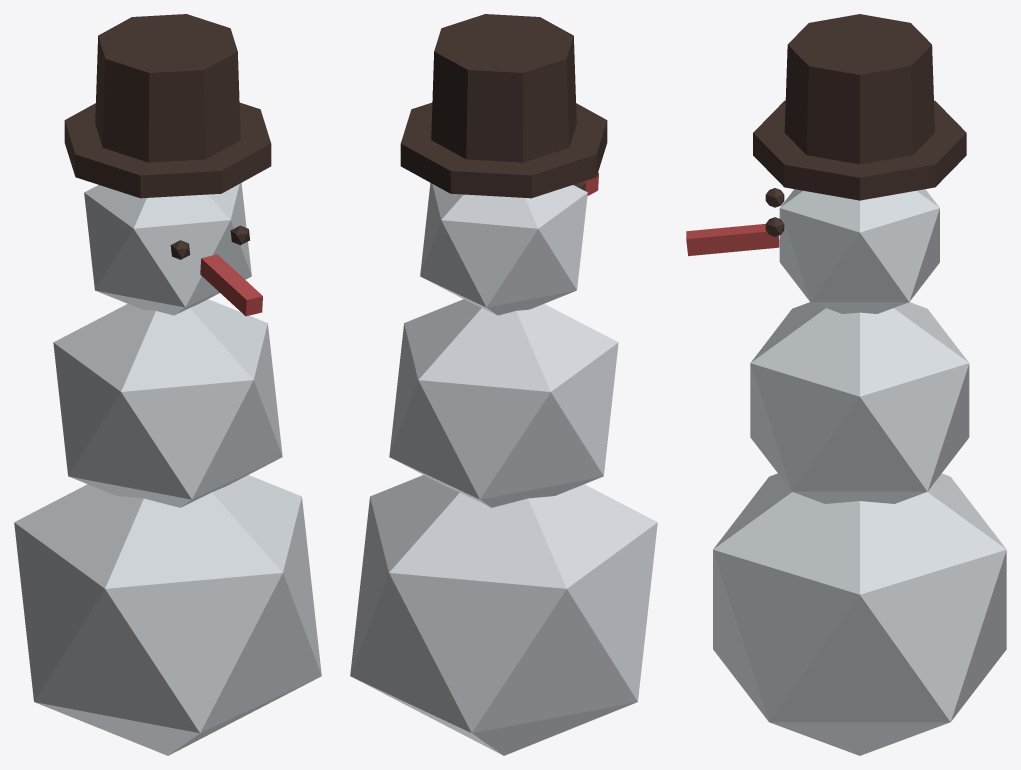
Rendered from Frosty_BigSnowman_Simple.glb.
The picture shows the model from 3 angles, left to right: view 1: azimuth 30°, elevation 25°; view 2: azimuth 150°, elevation 25°; view 3: azimuth 270°, elevation 25°; orthographic projection.
Parts seen in each view (by area): view 1: Frosty_BigSnowman_Simple; view 2: Frosty_BigSnowman_Simple; view 3: Frosty_BigSnowman_Simple.
Boxes of the visible parts, <box> form: Frosty_BigSnowman_Simple: <box>14,14,321,755</box>; Frosty_BigSnowman_Simple: <box>350,14,657,755</box>; Frosty_BigSnowman_Simple: <box>686,14,1006,755</box>.
Size of the model in its own units: 0.9839 by 2.5 by 1.02.
